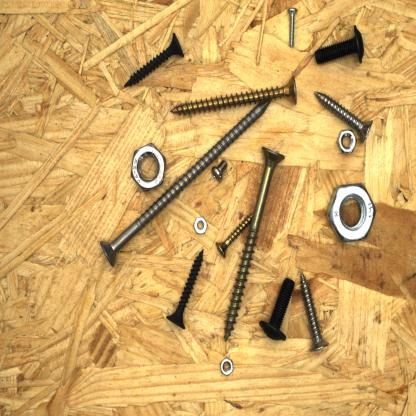screw: (96, 95, 275, 271), (221, 141, 288, 348), (166, 71, 300, 119), (120, 29, 188, 93), (162, 245, 208, 334), (311, 88, 376, 148), (297, 268, 332, 355), (310, 21, 368, 72), (255, 274, 297, 344), (213, 206, 260, 262), (283, 2, 302, 50), (207, 154, 233, 183)
